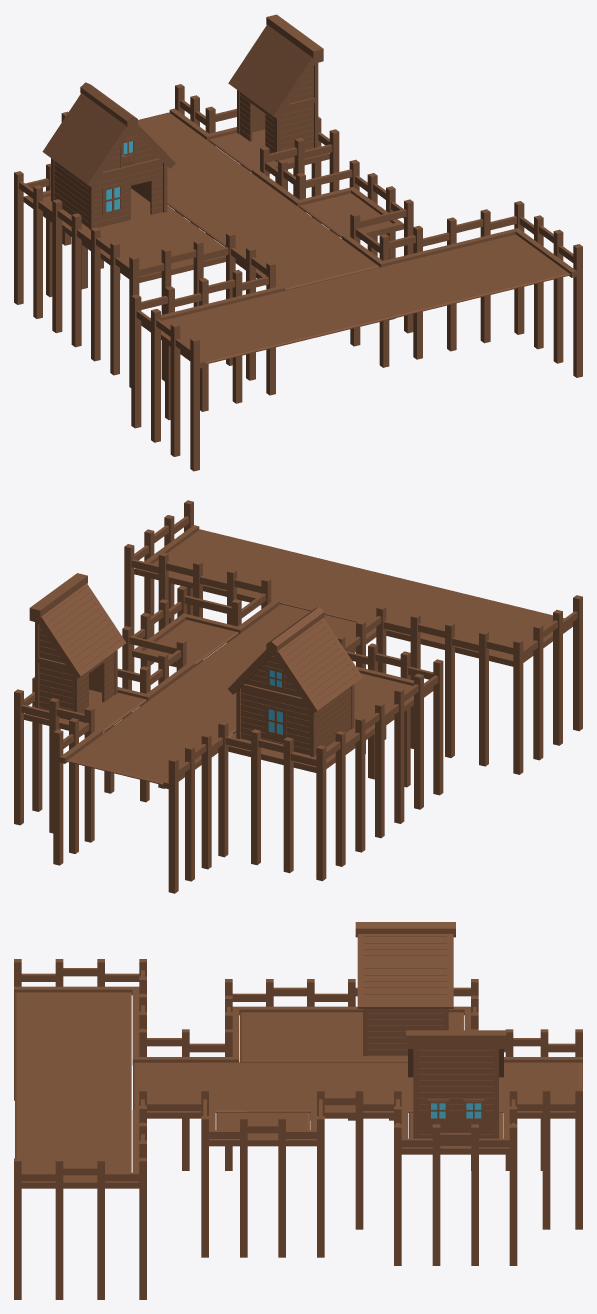
The model's file is Port1-1.glb.
3 renders of one model, top to bottom at view 1: azimuth 30°, elevation 25°; view 2: azimuth 150°, elevation 25°; view 3: azimuth 270°, elevation 25°, orthographic. The views are drawn at different scales.
Visible parts, largest first — view 1: House_Big; view 2: House_Big; view 3: House_Big.
Boxes of the visible parts, bbox=[...] form: House_Big: bbox=[14, 14, 582, 471]; House_Big: bbox=[14, 500, 582, 893]; House_Big: bbox=[14, 922, 582, 1299].
Bounding box in the file's own units: 24.09 × 12.61 × 28.63.
